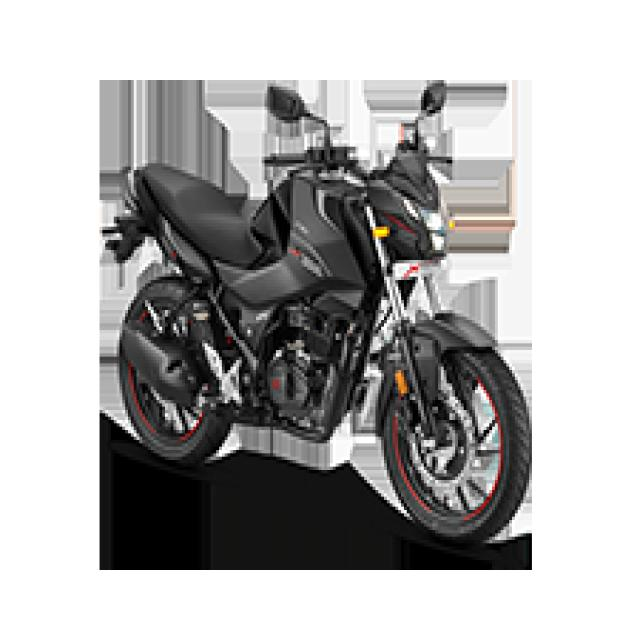bike: (99, 80, 530, 546)
